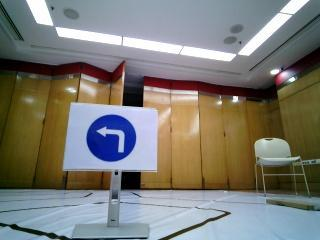left: (74, 106, 149, 169)
